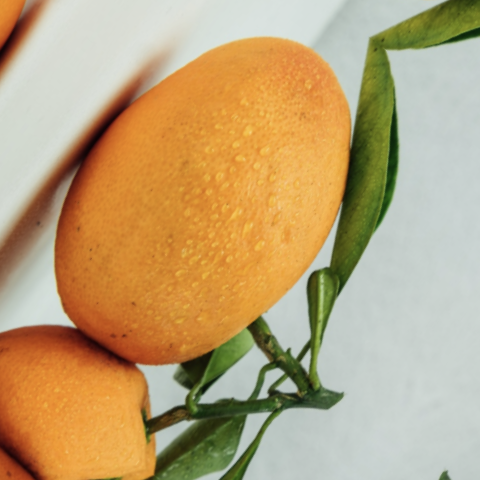orange: (0, 0, 458, 465)
